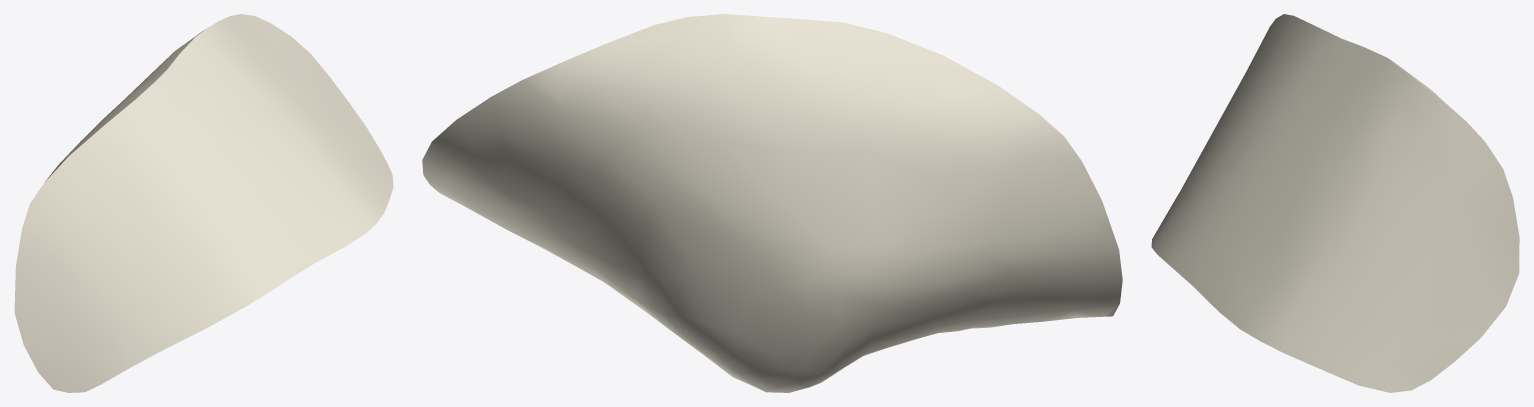
The model's file is fma23324_mm1554.glb.
The picture shows the model from 3 angles, left to right: view 1: azimuth 30°, elevation 25°; view 2: azimuth 150°, elevation 25°; view 3: azimuth 270°, elevation 25°; orthographic projection. The views are drawn at different scales.
Visible parts, largest first — view 1: FMA23324_MM1554; view 2: FMA23324_MM1554; view 3: FMA23324_MM1554.
Part boxes in pixels (x1,y1,x2,y2): FMA23324_MM1554: (14,14,393,392); FMA23324_MM1554: (422,14,1122,392); FMA23324_MM1554: (1151,14,1519,392).
Size of the model in its own units: 0.023 by 0.0135 by 0.0139.
